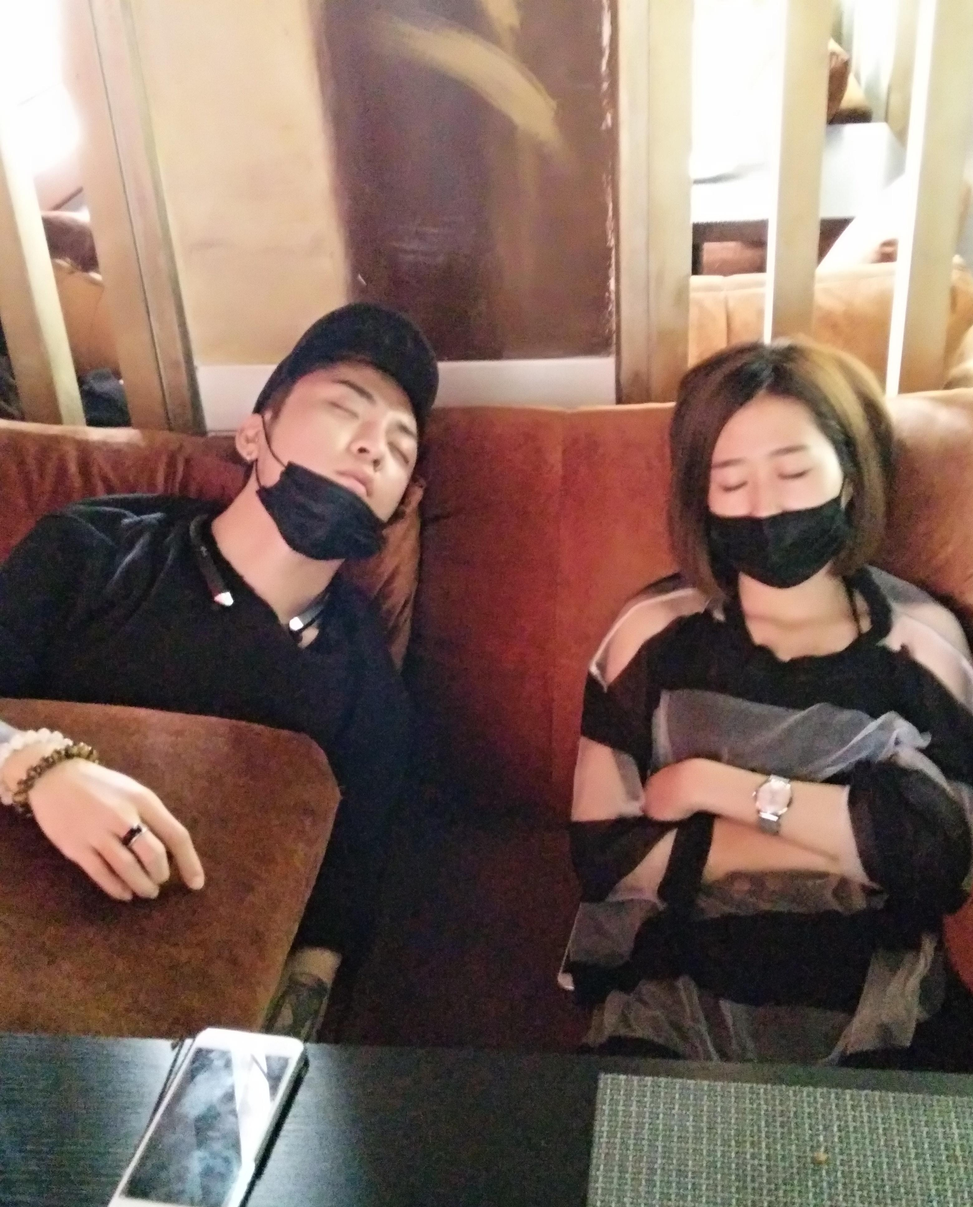WRONG: (243, 383, 424, 564), (700, 438, 857, 595)
